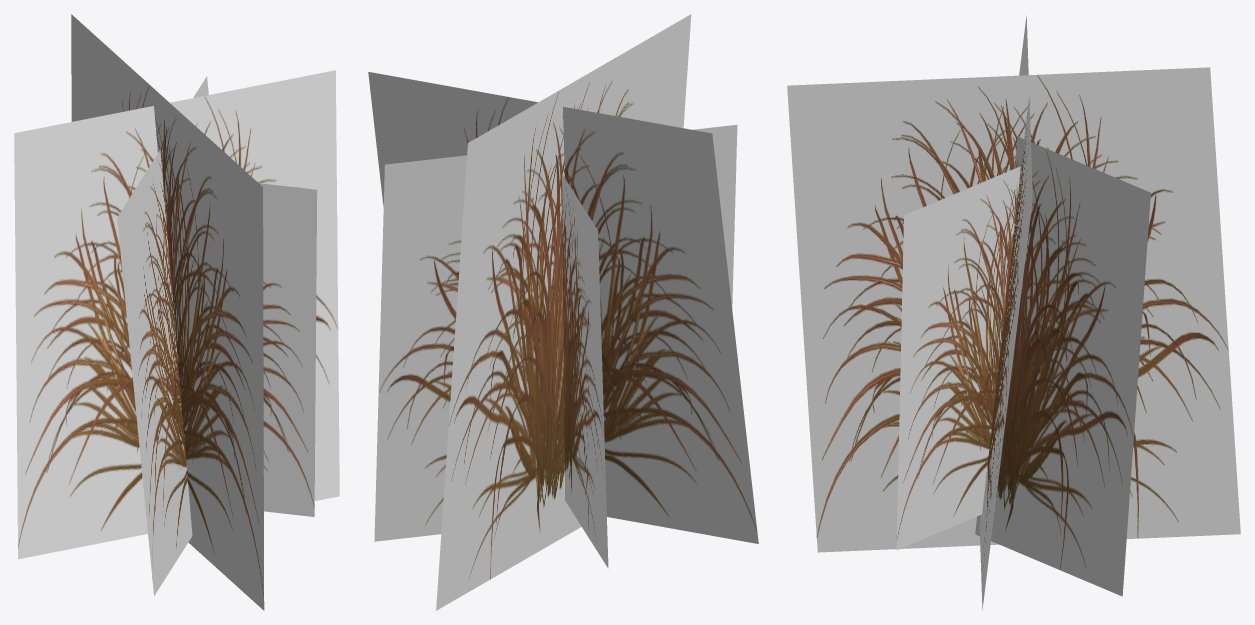
The model's file is e_dry_grass_2.fbx.
3 views of the same model, side by side, from view 1: azimuth 30°, elevation 25°; view 2: azimuth 150°, elevation 25°; view 3: azimuth 270°, elevation 25° (orthographic). The views are drawn at different scales.
Visible parts, largest first — view 1: e_dry_grass_2; view 2: e_dry_grass_2; view 3: e_dry_grass_2.
Part boxes in pixels (bbox=[...]): e_dry_grass_2: bbox=[14, 14, 339, 610]; e_dry_grass_2: bbox=[368, 14, 758, 610]; e_dry_grass_2: bbox=[787, 15, 1240, 610].
Bounding box in the file's own units: 57.1 × 72.97 × 62.19.
1 material, 1 textured.
